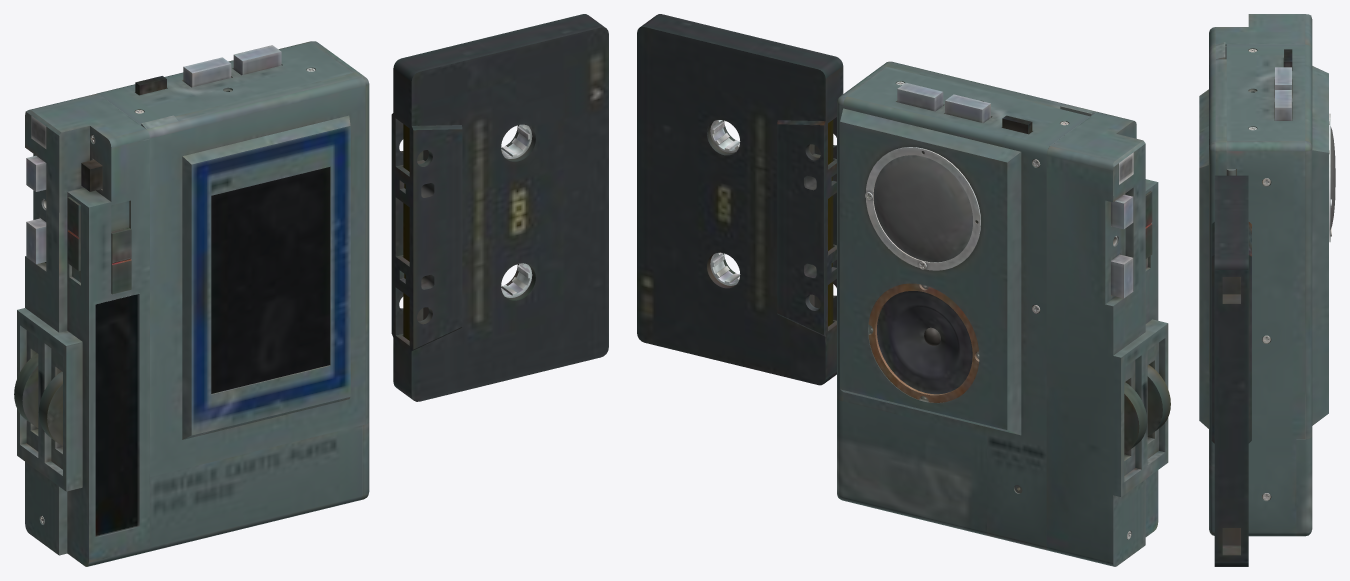
The model's file is portable_cassette_player.glb.
The picture shows the model from 3 angles, left to right: view 1: azimuth 30°, elevation 25°; view 2: azimuth 150°, elevation 25°; view 3: azimuth 270°, elevation 25°; orthographic projection. The views are drawn at different scales.
Visible parts, largest first — view 1: portable_cassette_player, portable_cassette_player_lid, portable_cassette_player_casette; view 2: portable_cassette_player, portable_cassette_player_casette, portable_cassette_player_lid; view 3: portable_cassette_player, portable_cassette_player_casette, portable_cassette_player_lid.
Part boxes in pixels (x1,y1,x2,y2): portable_cassette_player: (14, 41, 369, 566); portable_cassette_player_lid: (141, 72, 369, 476); portable_cassette_player_casette: (391, 14, 608, 401); portable_cassette_player: (837, 66, 1170, 566); portable_cassette_player_casette: (637, 14, 843, 385); portable_cassette_player_lid: (881, 61, 1097, 116); portable_cassette_player: (1209, 14, 1335, 536); portable_cassette_player_casette: (1211, 175, 1251, 566); portable_cassette_player_lid: (1199, 42, 1235, 466).
Size of the model in its own units: 0.1723 by 0.1303 by 0.0397.
Materials: 2 (2 with a texture image).
